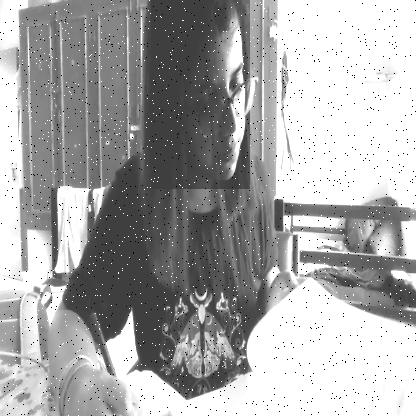Distracted: (151, 0, 250, 189)
